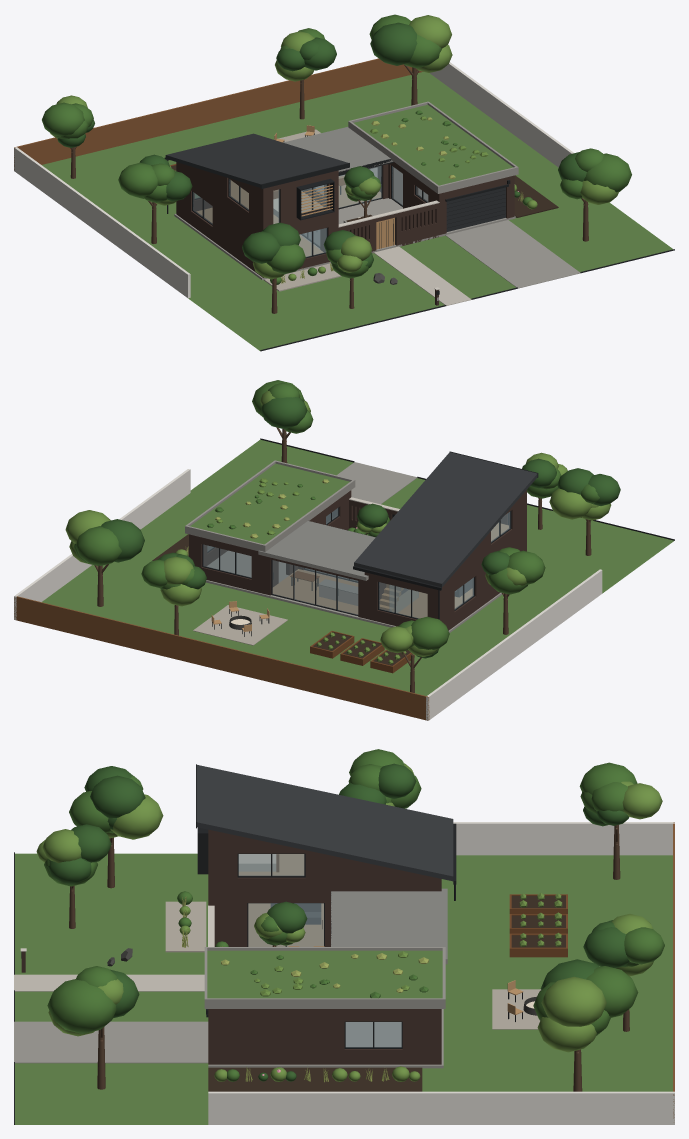
File: courtyard-house.glb
The picture shows the model from 3 angles, top to bottom: view 1: azimuth 30°, elevation 25°; view 2: azimuth 150°, elevation 25°; view 3: azimuth 270°, elevation 25°; orthographic projection. The views are drawn at different scales.
Parts seen in each view (by area): view 1: Lawn, FenceNorth, GreenRoof, SkillionRoof, WestSideWall, WallWest, Driveway, Roof, WallEast, Canopy1 (×3), StreetWall, Canopy6 (×2) (+19 smaller); view 2: Lawn, SkillionRoof, FenceNorth, GreenRoof, Roof, WallWest, WestSideWall, WallEast, Canopy6 (×3), Canopy4 (×3), FirePit, EastRear (+22 smaller); view 3: Lawn, SkillionRoof, WallEast, EastSide, GreenRoof, Roof, CourtyardSideWall, Driveway, WallWest, Canopy6 (×5), Canopy4 (×4), SideBed (+22 smaller).
Boxes of the visible parts, x1,y1,x2,y2 form: Lawn: (42,72,672,350); FenceNorth: (14,58,423,169); GreenRoof: (354,104,512,185); SkillionRoof: (165,133,347,187); WestSideWall: (176,162,266,277); WallWest: (14,147,190,298); Driveway: (445,220,580,288); Roof: (283,101,518,189); WallEast: (430,62,574,167); Canopy1 (×3): (242,22,417,263); StreetWall: (267,171,334,269); Canopy6 (×2): (118,153,631,197); Lawn: (42,439,674,695); SkillionRoof: (354,452,537,587); FenceNorth: (14,596,429,720); GreenRoof: (190,463,349,544); Roof: (185,460,375,577); WallWest: (426,569,602,720); WestSideWall: (436,490,526,630); WallEast: (14,469,190,620); Canopy6 (×3): (75,526,545,587); Canopy4 (×3): (260,397,593,575); FirePit: (193,605,287,645); EastRear: (189,534,264,593); Lawn: (15,853,672,1124); SkillionRoof: (197,765,453,881); WallEast: (208,1091,674,1124); EastSide: (214,1009,435,1064); GreenRoof: (207,950,442,998); Roof: (204,888,447,1003); CourtyardSideWall: (208,829,441,946); Driveway: (14,1021,208,1063); WallWest: (453,822,674,855); Canopy6 (×5): (47,749,664,1033); Canopy4 (×4): (90,763,629,1018); SideBed: (208,1067,422,1091).
Bounding box in the file's own units: 33.28 × 7.74 × 34.
